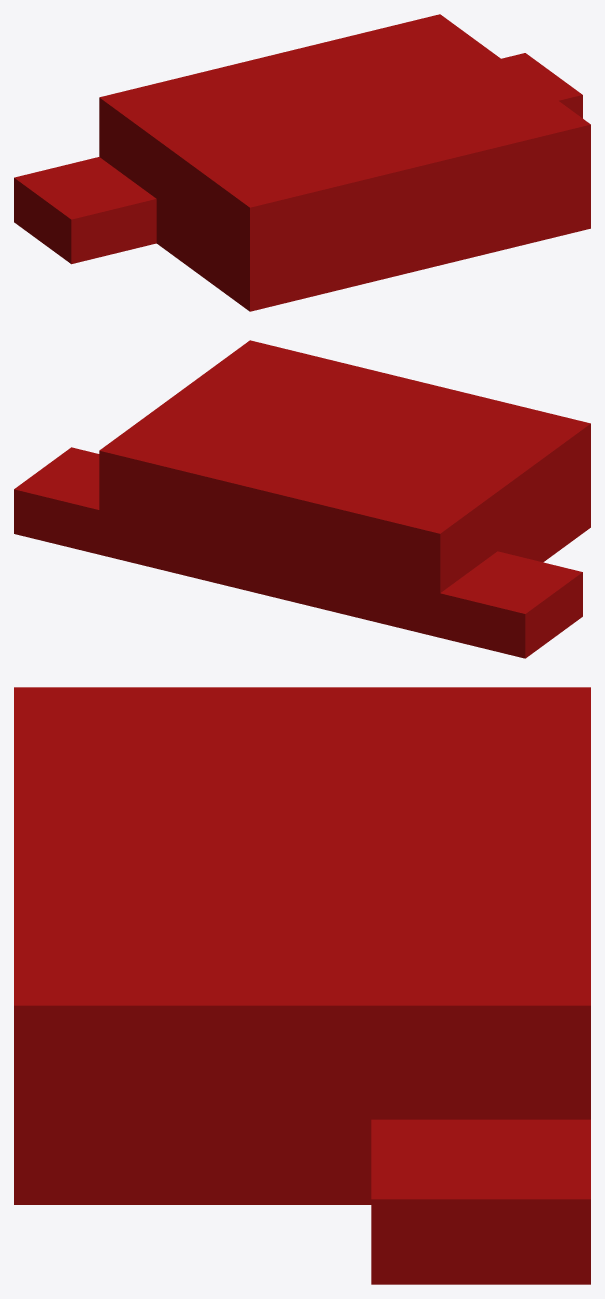
File: step.fbx
3 views of the same model, one above another, from view 1: azimuth 30°, elevation 25°; view 2: azimuth 150°, elevation 25°; view 3: azimuth 270°, elevation 25° (orthographic). The views are drawn at different scales.
Visible parts, largest first — view 1: Step_C, Step_L, Step_R; view 2: Step_C, Step_L, Step_R; view 3: Step_C, Step_R.
Part boxes in pixels (x1,y1,x2,y2): Step_C: (99,14,590,311); Step_L: (14,157,156,264); Step_R: (501,53,582,118); Step_C: (99,340,590,637); Step_L: (440,551,582,658); Step_R: (14,447,99,554); Step_C: (14,687,590,1204); Step_R: (371,1119,590,1284).
Bounding box in the file's own units: 1.8 × 0.35 × 0.9192.
